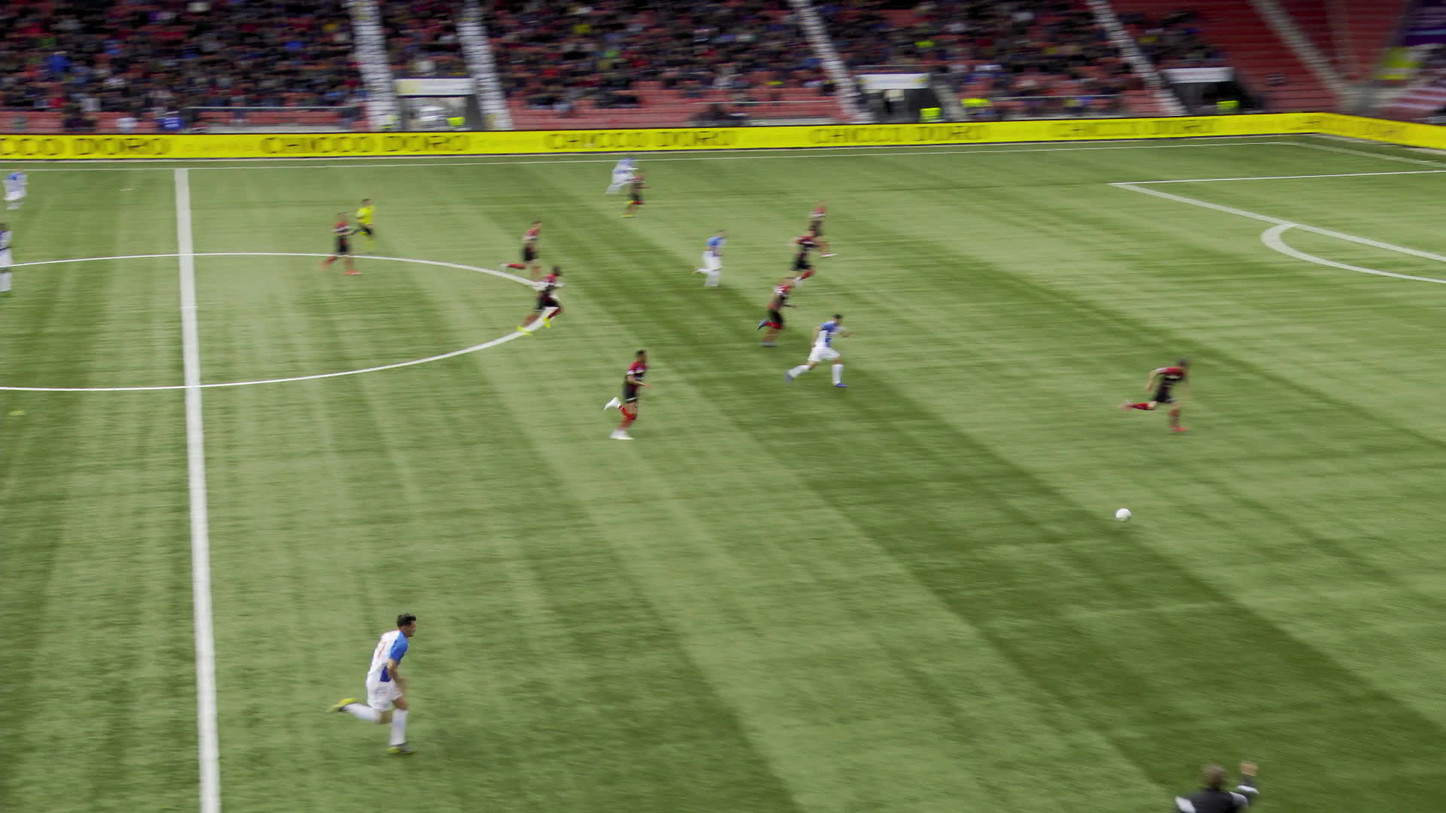ball: (1112, 508, 1127, 520)
player: (300, 613, 432, 748), (1132, 358, 1204, 431), (605, 347, 660, 440), (798, 312, 856, 391), (758, 275, 804, 349), (512, 219, 556, 285), (534, 264, 573, 336), (699, 227, 742, 289), (336, 209, 374, 274), (798, 230, 830, 294), (822, 198, 849, 256), (0, 220, 16, 294), (633, 168, 658, 215), (624, 154, 649, 195), (5, 166, 27, 210)
referee: (365, 193, 397, 253)
